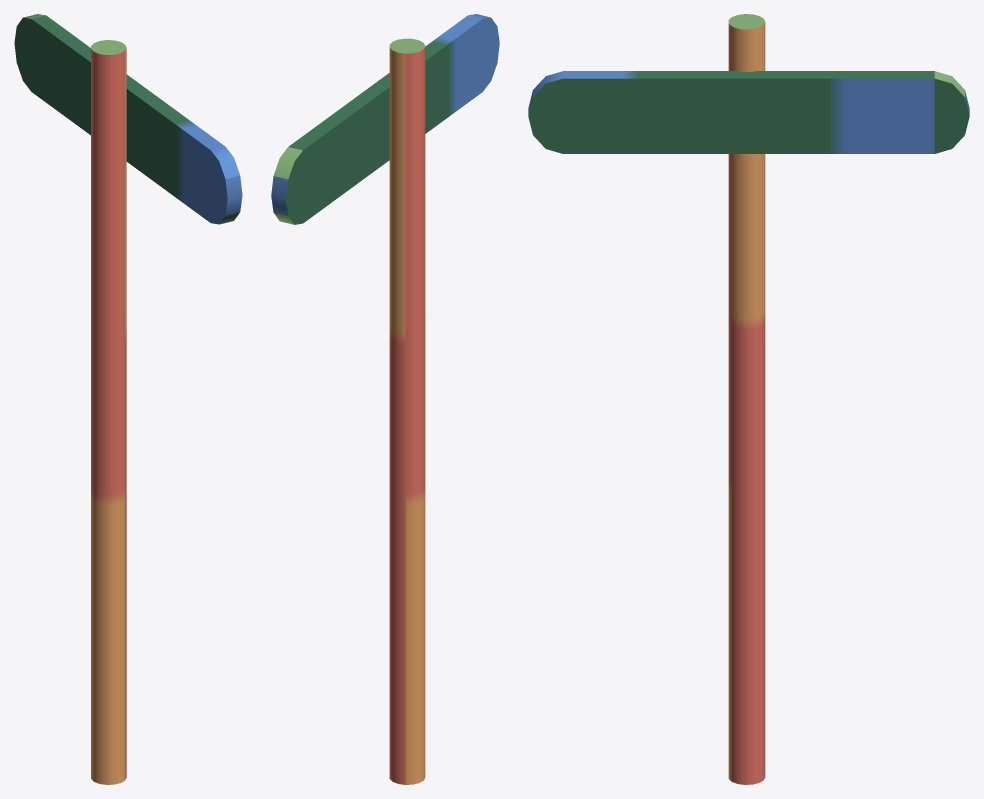
File: RoadSign_02.fbx
3 views of the same model, side by side, from view 1: azimuth 30°, elevation 25°; view 2: azimuth 150°, elevation 25°; view 3: azimuth 270°, elevation 25° (orthographic). The views are drawn at different scales.
Visible parts, largest first — view 1: pCube158; view 2: pCube158; view 3: pCube158.
Part boxes in pixels (x1,y1,x2,y2): pCube158: (14, 14, 242, 784); pCube158: (271, 14, 499, 784); pCube158: (528, 14, 969, 784).
Size of the model in its own units: 0.1369 by 2.19 by 1.16.
Materials: 1 (1 with a texture image).
